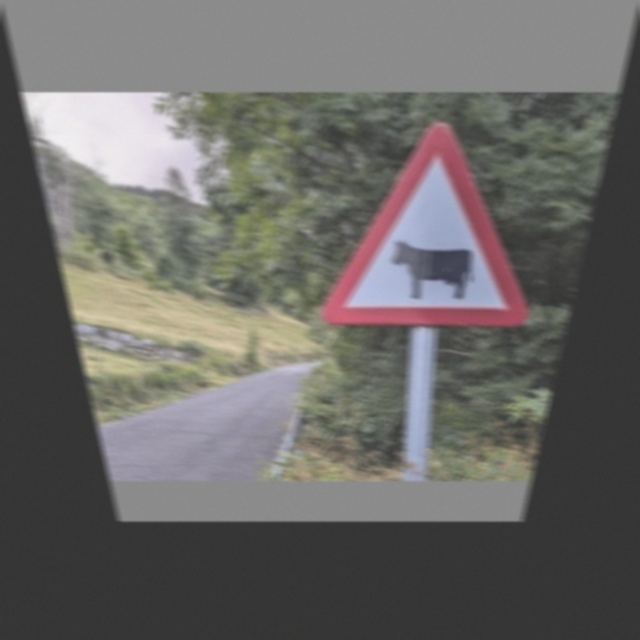Cattle: (335, 119, 557, 332)
